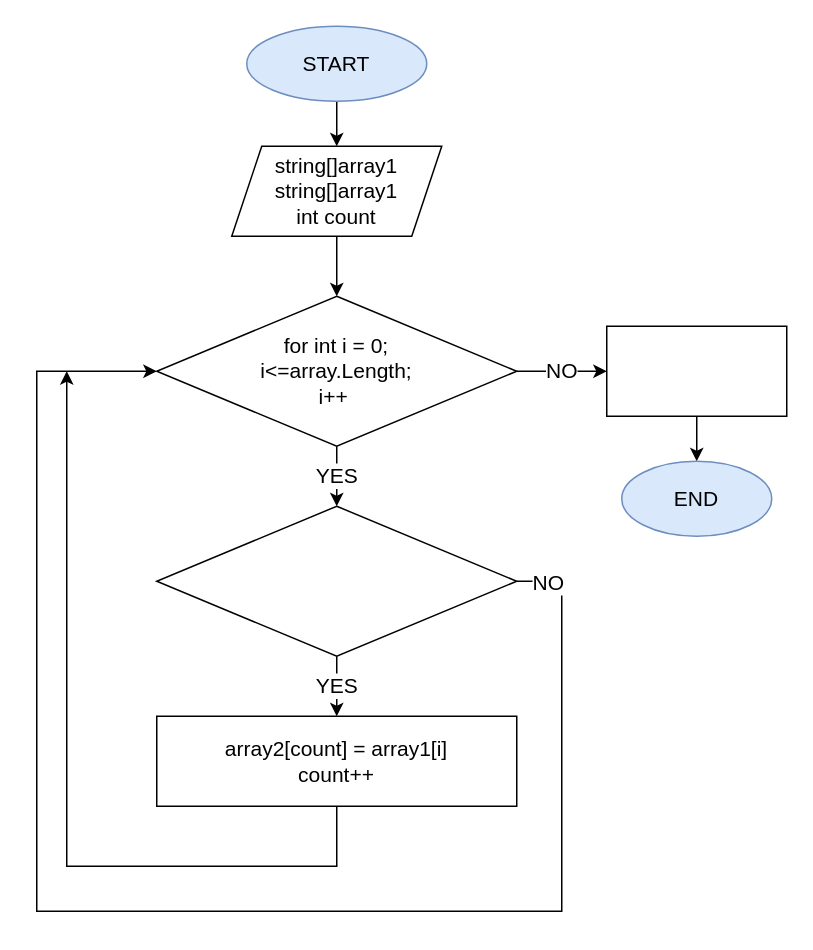
This 813x950 diagram has some shape labels left out. Each missing label, with the centre of its shape:
"if (array1[i].Lenght<=3)" belongs at (x=336, y=580).
"Print (array2)" belongs at (x=696, y=370).
